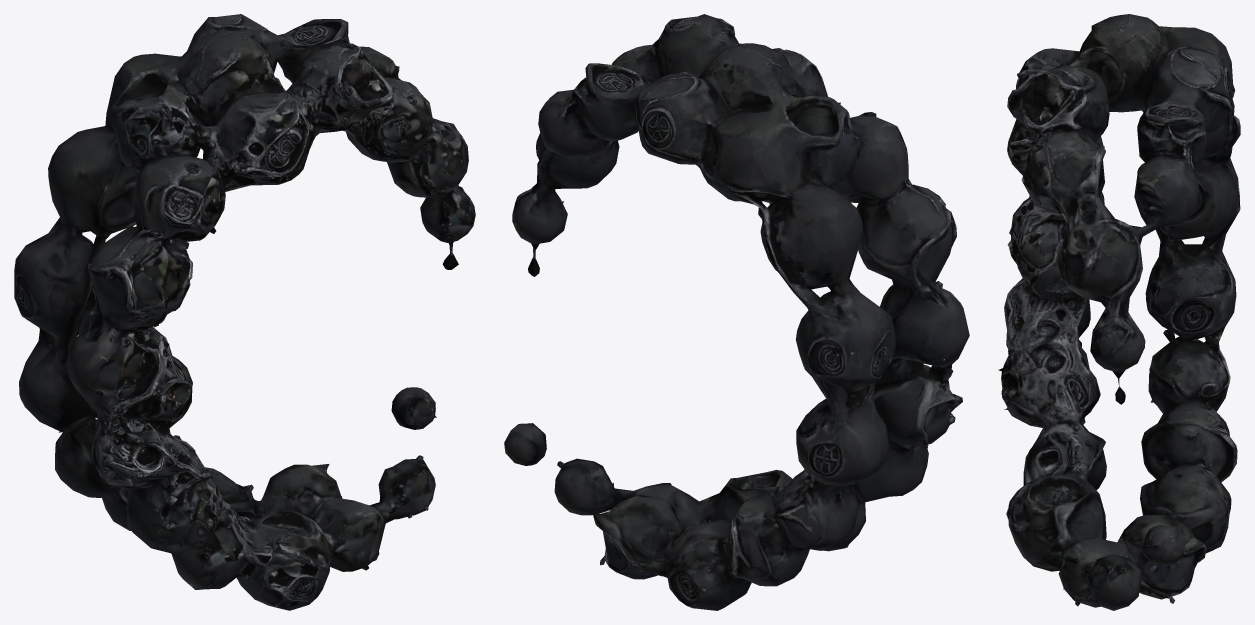
Rendered from blackspark.glb.
The picture shows the model from 3 angles, left to right: view 1: azimuth 30°, elevation 25°; view 2: azimuth 150°, elevation 25°; view 3: azimuth 270°, elevation 25°; orthographic projection. The views are drawn at different scales.
Parts seen in each view (by area): view 1: blackspark; view 2: blackspark; view 3: blackspark.
Boxes of the visible parts, x1,y1,x2,y2 form: blackspark: (14,14,475,610); blackspark: (504,14,969,610); blackspark: (998,14,1240,610).
Bounding box in the file's own units: 0.7943 × 0.9786 × 0.4007.
1 material, 1 textured.
